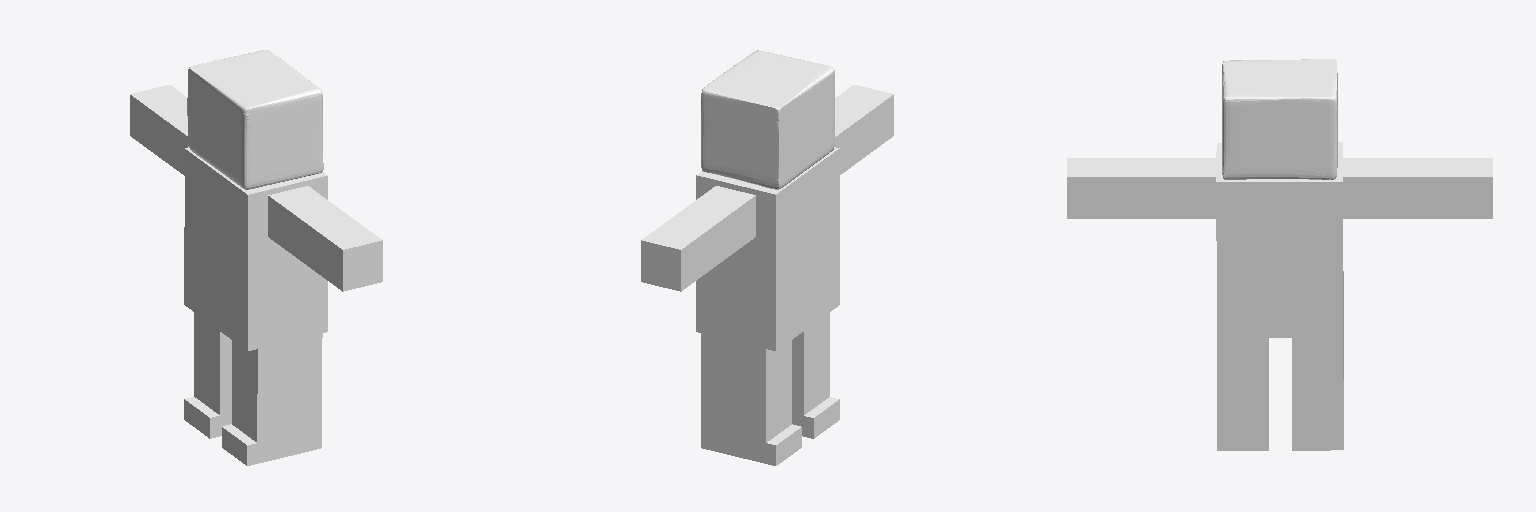
Rendered from rig_norm_0000.obj.
3 views of the same model, side by side, from view 1: azimuth 30°, elevation 25°; view 2: azimuth 150°, elevation 25°; view 3: azimuth 270°, elevation 25° (orthographic).
Visible parts, largest first — view 1: trooper.1, head; view 2: trooper.1, head; view 3: trooper.1, head.
Boxes of the visible parts, box(x1,y1,x2,y2) form: trooper.1: box(130, 85, 382, 465); head: box(187, 50, 323, 189); trooper.1: box(641, 85, 893, 465); head: box(701, 50, 834, 189); trooper.1: box(1067, 142, 1492, 450); head: box(1222, 59, 1337, 179).
Size of the model in its own units: 1.14 by 4.82 by 5.24.